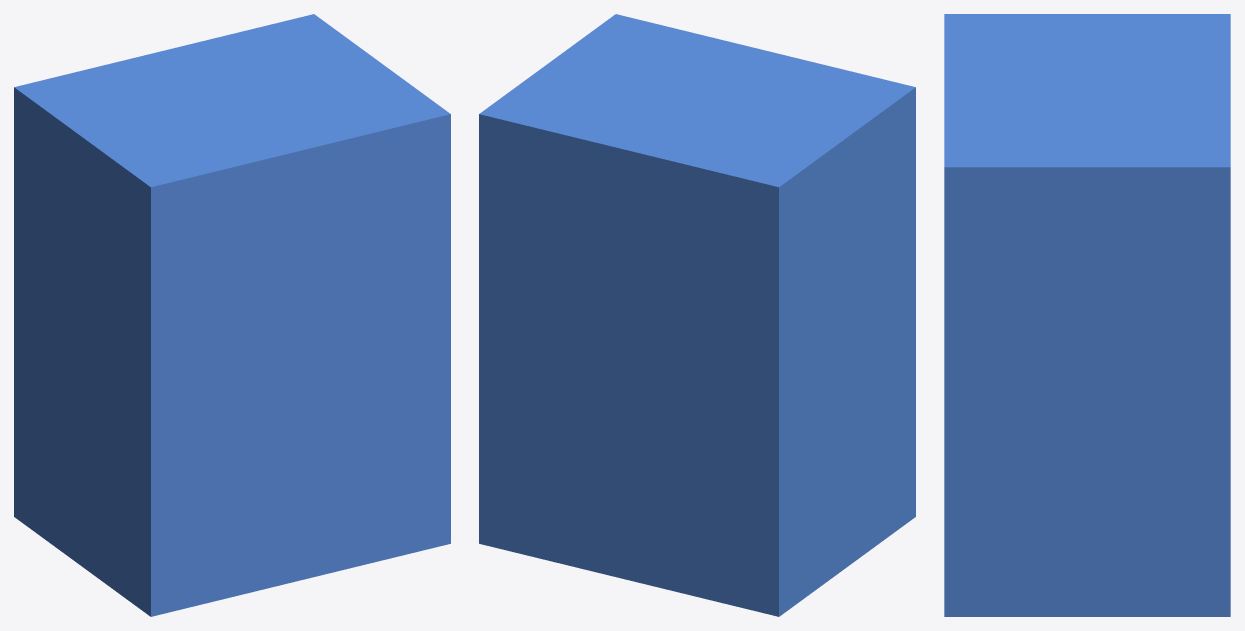
3 renders of one model, left to right at view 1: azimuth 30°, elevation 25°; view 2: azimuth 150°, elevation 25°; view 3: azimuth 270°, elevation 25°, orthographic. The views are drawn at different scales.
Parts seen in each view (by area): view 1: NM1-100S_3300_80A; view 2: NM1-100S_3300_80A; view 3: NM1-100S_3300_80A.
Boxes of the visible parts, left/top/right/bottom form: NM1-100S_3300_80A: left=14, top=14, right=450, bottom=616; NM1-100S_3300_80A: left=479, top=14, right=915, bottom=616; NM1-100S_3300_80A: left=944, top=14, right=1230, bottom=616.
Size of the model in its own units: 95 by 130 by 75.
